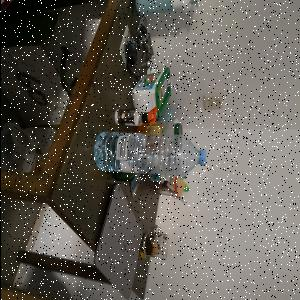Plastic-bottle: (93, 132, 207, 179), (135, 2, 200, 20)
